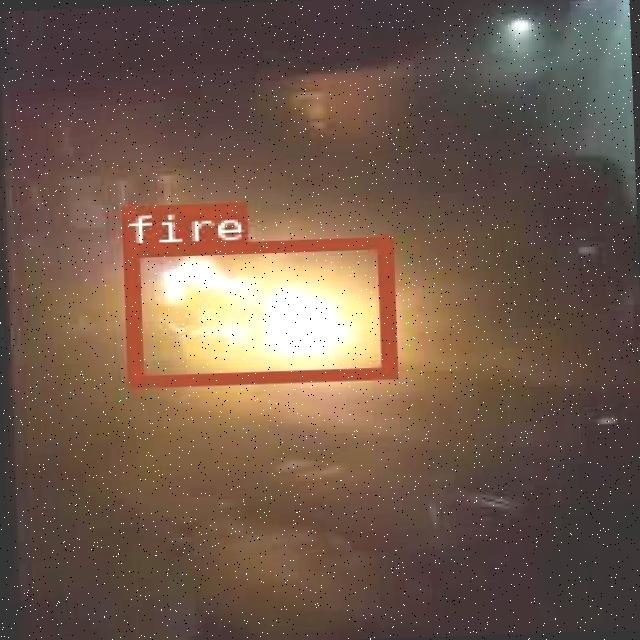fire: (121, 235, 392, 384)
